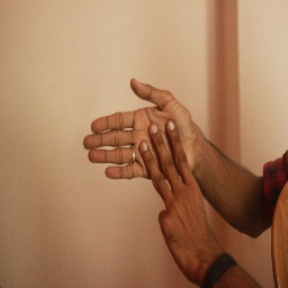M: (82, 76, 211, 216)
